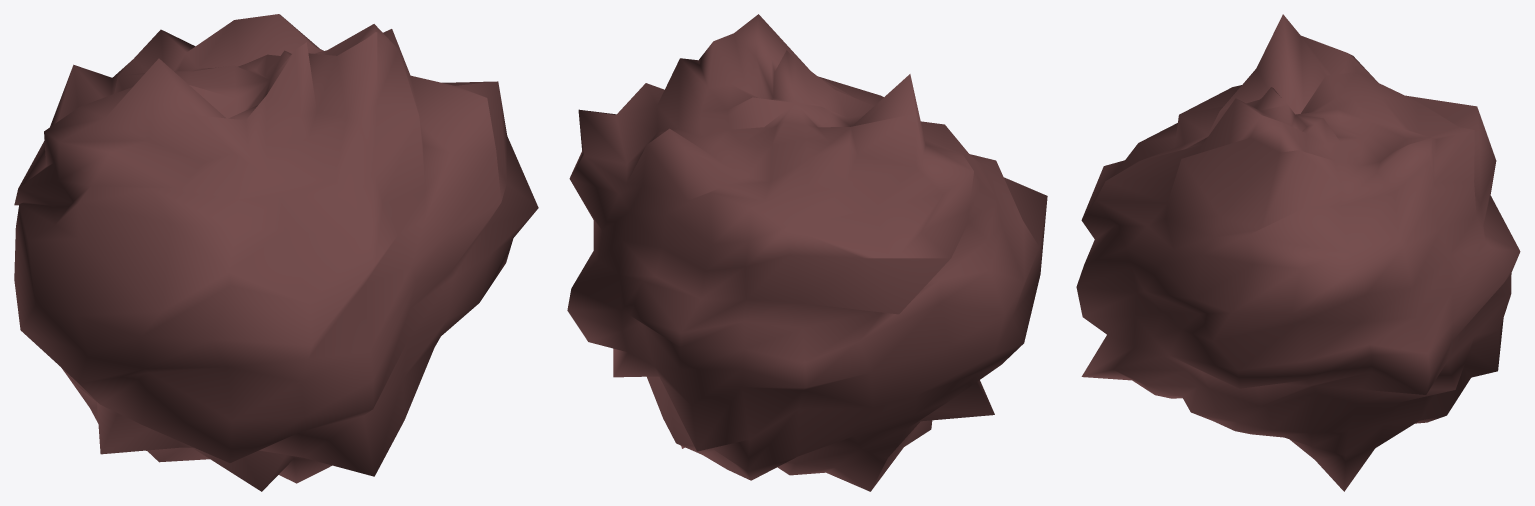
The model's file is Collectible2.fbx.
3 renders of one model, left to right at view 1: azimuth 30°, elevation 25°; view 2: azimuth 150°, elevation 25°; view 3: azimuth 270°, elevation 25°, orthographic. The views are drawn at different scales.
Parts seen in each view (by area): view 1: pSphere1; view 2: pSphere1; view 3: pSphere1.
Part boxes in pixels (bbox=[...]): pSphere1: bbox=[14, 14, 538, 491]; pSphere1: bbox=[567, 14, 1047, 491]; pSphere1: bbox=[1076, 14, 1520, 491].
Size of the model in its own units: 6.62 by 5.89 by 6.15.
